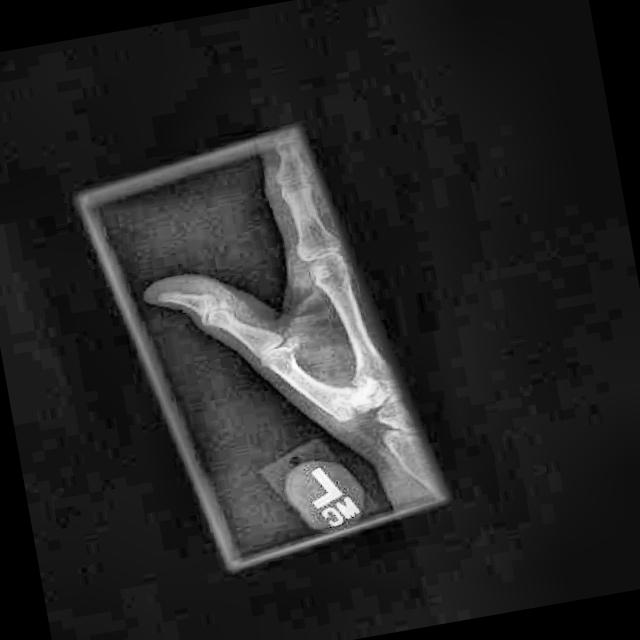fingers positive: (186, 286, 241, 330)
